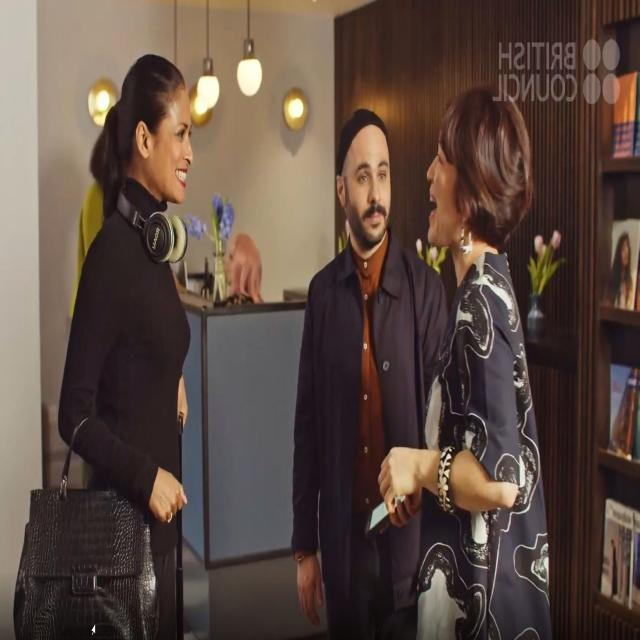adult: (378, 94, 552, 638), (58, 52, 192, 640), (292, 108, 439, 640)
